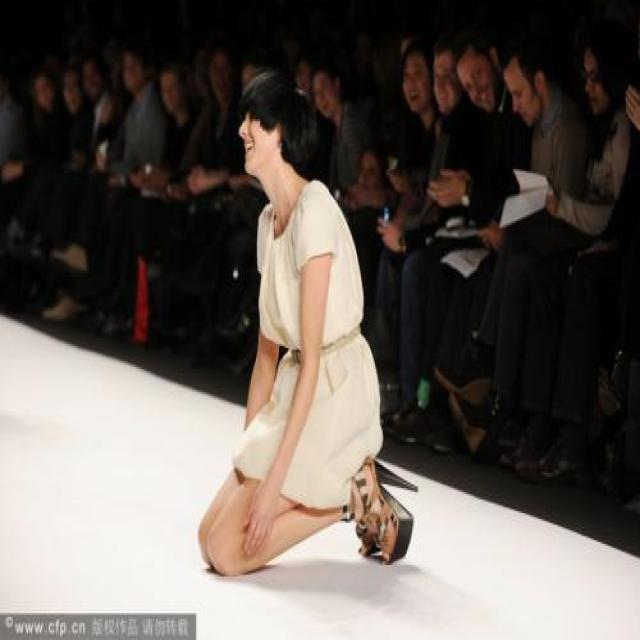10-: (0, 15, 637, 582)
down: (193, 64, 420, 578)
